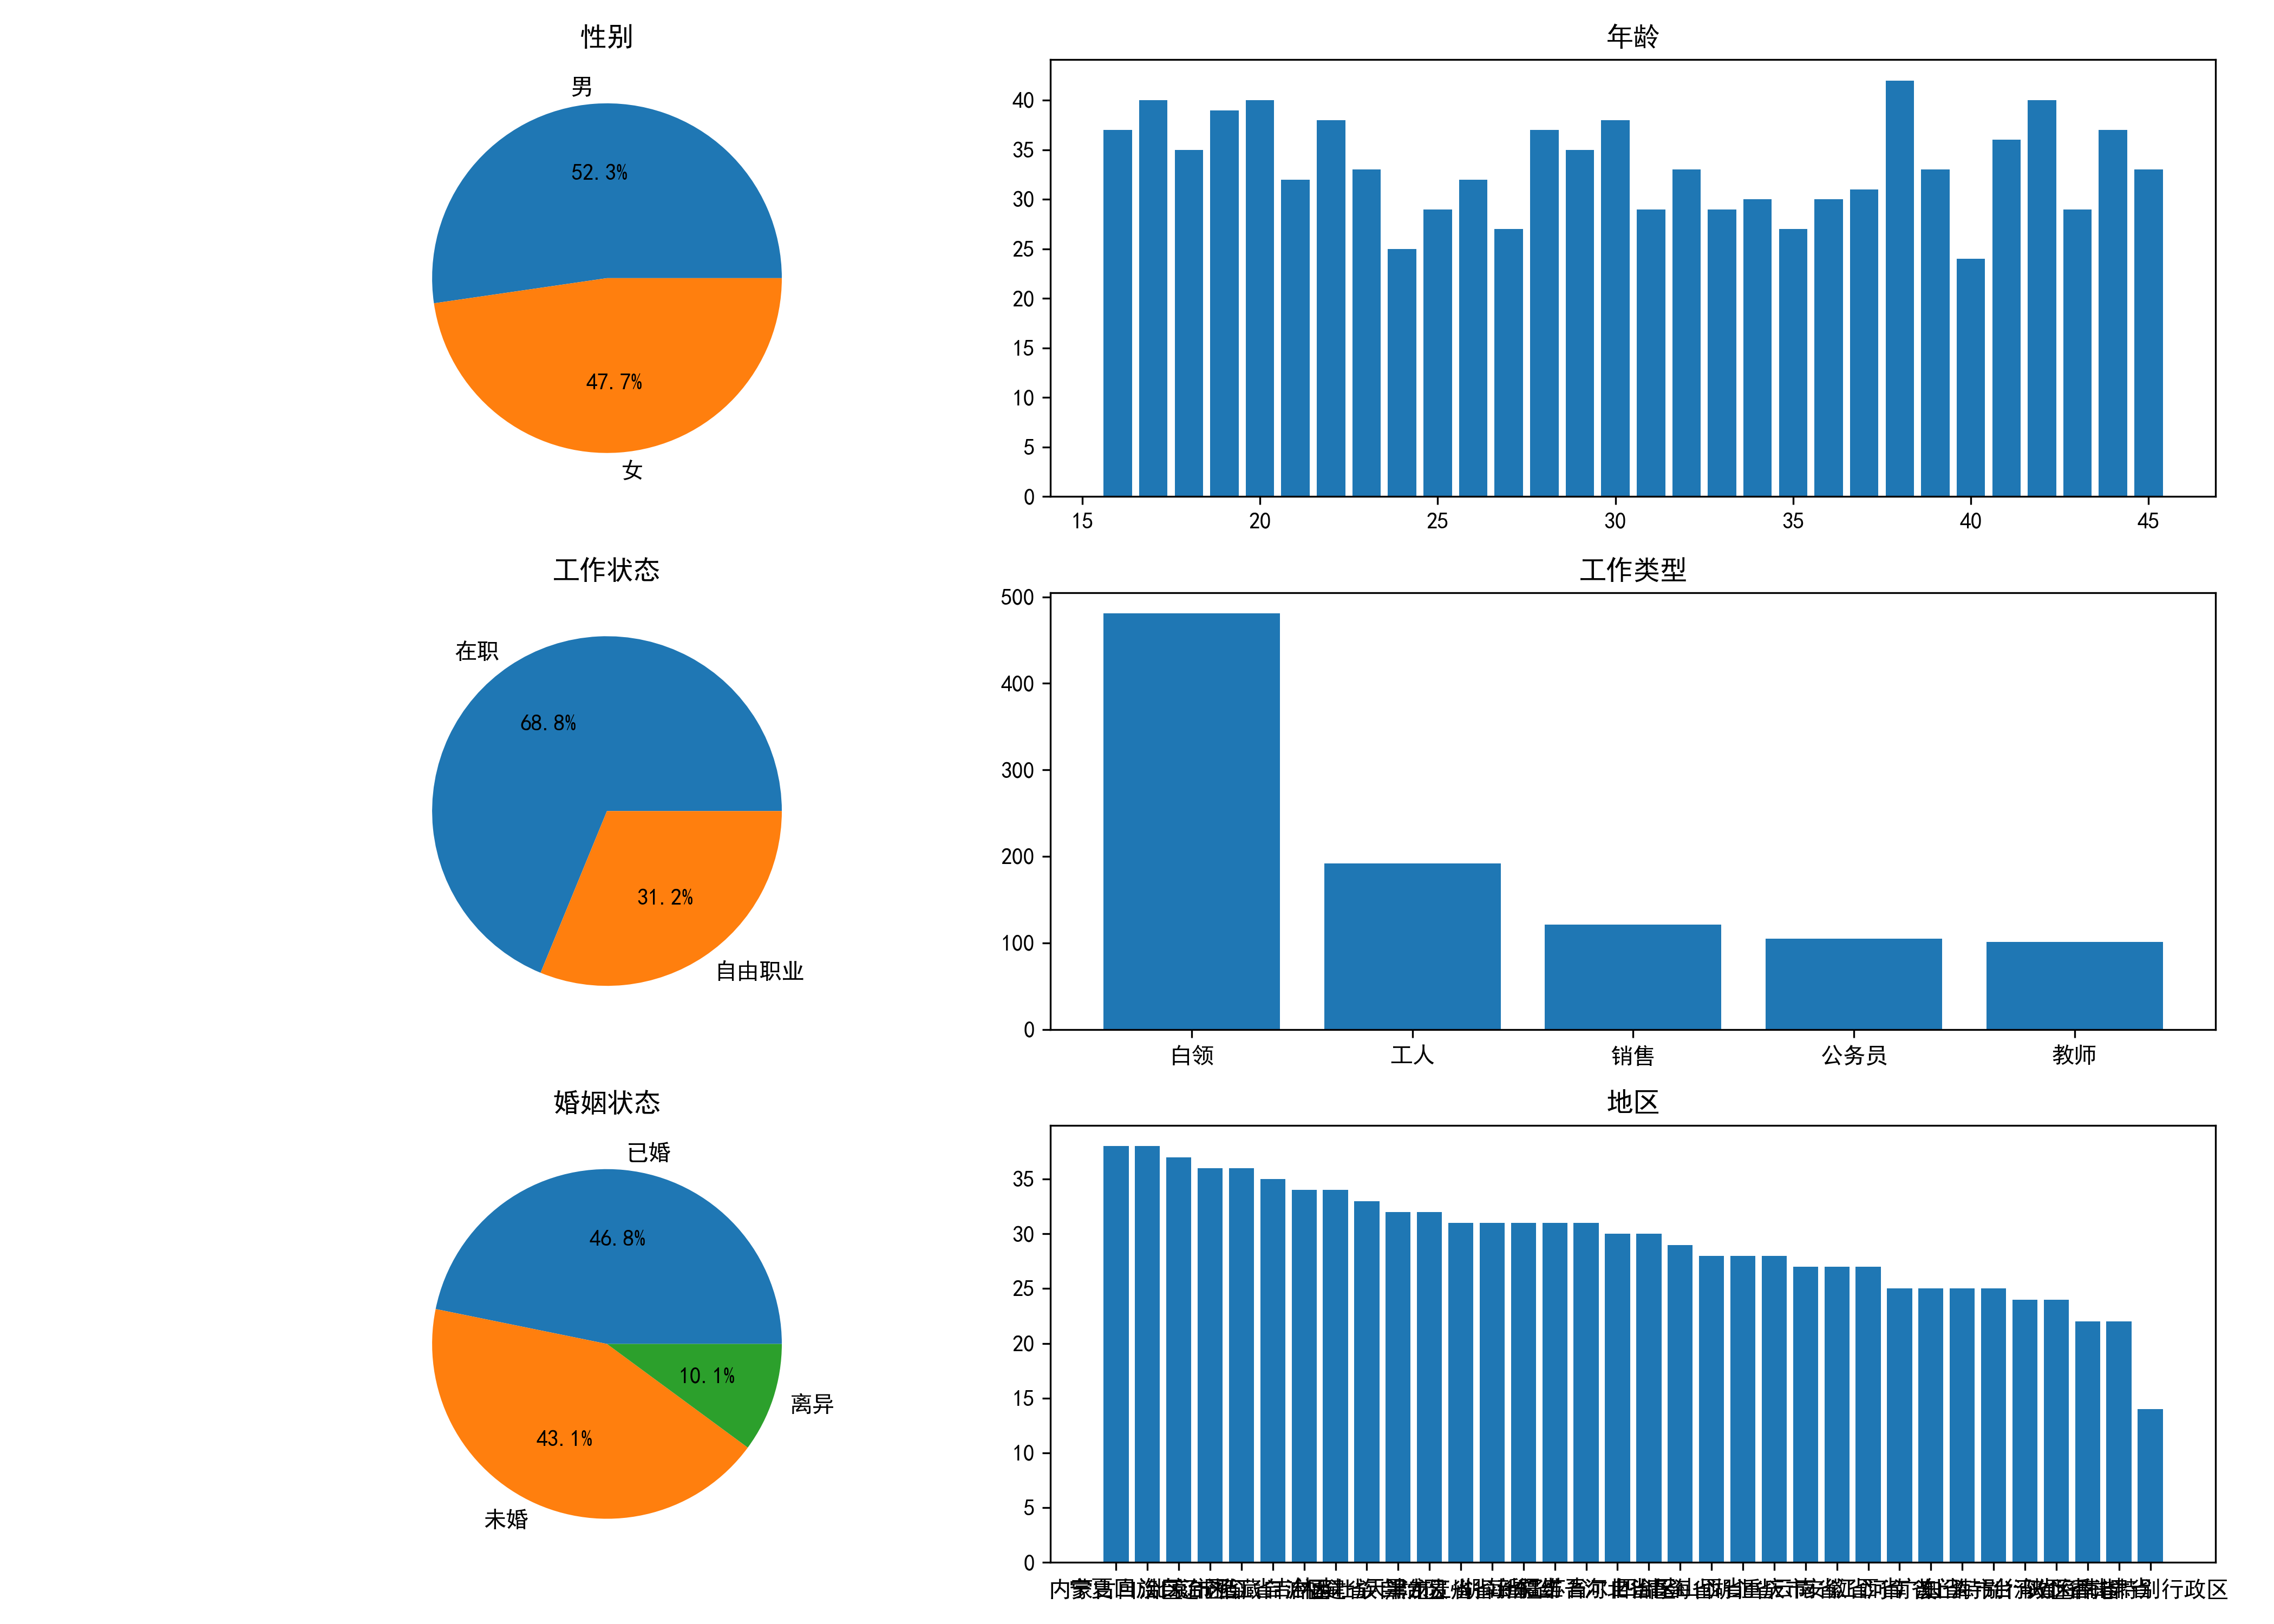

The dashboard page shown, as its layout file describes it:
{"tool":"tableau","page":{"name":"Dashboard 1","canvas":[1000,800],"ordinal":0},"visuals":[{"type":"worksheet","title":"Sheet 1","mark":"Automatic","cols":["sex"],"box":[8,8,211,405]},{"type":"worksheet","title":"Sheet 3","mark":"Automatic","box":[219,8,216,162]},{"type":"worksheet","title":"Sheet 2","mark":"Pie","box":[435,8,198.5,162]},{"type":"worksheet","title":"Sheet 5","mark":"Automatic","rows":["married"],"box":[633.5,8,198.5,162]},{"type":"legend","title":"Sheet 2","param":"[federated.0weplf0083lheo120dzyu1ezatgr].[none:work:nk]","box":[832,8,160,84]},{"type":"legend","title":"Sheet 3","param":"[federated.0weplf0083lheo120dzyu1ezatgr].[__tableau_internal_object_id__].[cnt:用","box":[832,92,160,81]},{"type":"worksheet","title":"Sheet 6","mark":"Automatic","box":[219,170,613,622]},{"type":"legend","title":"Sheet 4","param":"[federated.0weplf0083lheo120dzyu1ezatgr].[none:type:nk]","box":[832,173,160,159]},{"type":"legend","title":"Sheet 6","param":"[federated.0weplf0083lheo120dzyu1ezatgr].[Multiple Values]","box":[832,332,160,81]},{"type":"worksheet","title":"Sheet 4","mark":"Circle","box":[8,413,211,379]}]}

Visuals, with their boxes on the page's 1000x800 design canvas (x1, y1, x2, y2). These are canvas units, not pixel positions in the 2274x1624 screenshot, which may show the page scaled, cropped or inside an application window:
"Sheet 1" worksheet: region(8, 8, 219, 413)
"Sheet 3" worksheet: region(219, 8, 435, 170)
"Sheet 2" worksheet (Pie marks): region(435, 8, 634, 170)
"Sheet 5" worksheet: region(634, 8, 832, 170)
"Sheet 2" legend: region(832, 8, 992, 92)
"Sheet 3" legend: region(832, 92, 992, 173)
"Sheet 6" worksheet: region(219, 170, 832, 792)
"Sheet 4" legend: region(832, 173, 992, 332)
"Sheet 6" legend: region(832, 332, 992, 413)
"Sheet 4" worksheet (Circle marks): region(8, 413, 219, 792)
